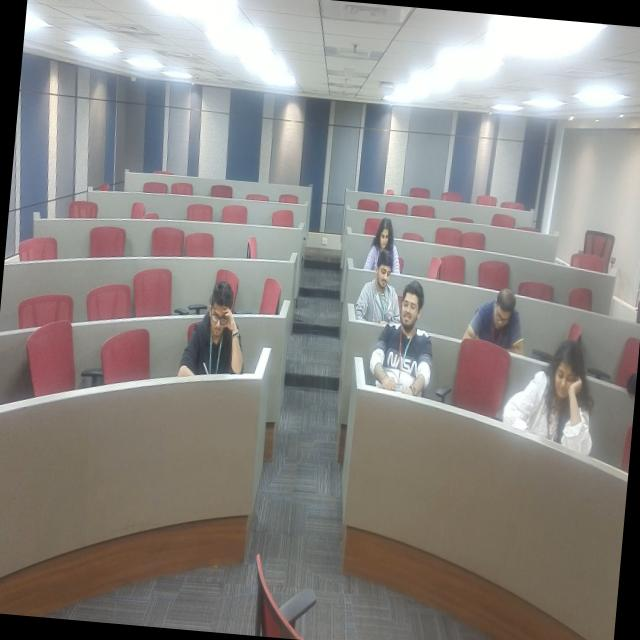cheating: (368, 274, 442, 394)
non-cheating: (514, 318, 596, 474), (183, 270, 238, 399), (466, 282, 525, 362), (358, 246, 399, 324), (369, 202, 406, 266), (372, 284, 373, 286)
